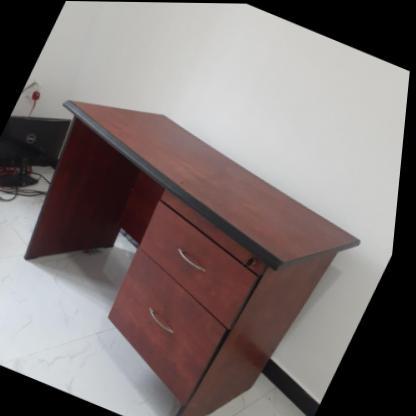Table: (0, 65, 405, 416)
